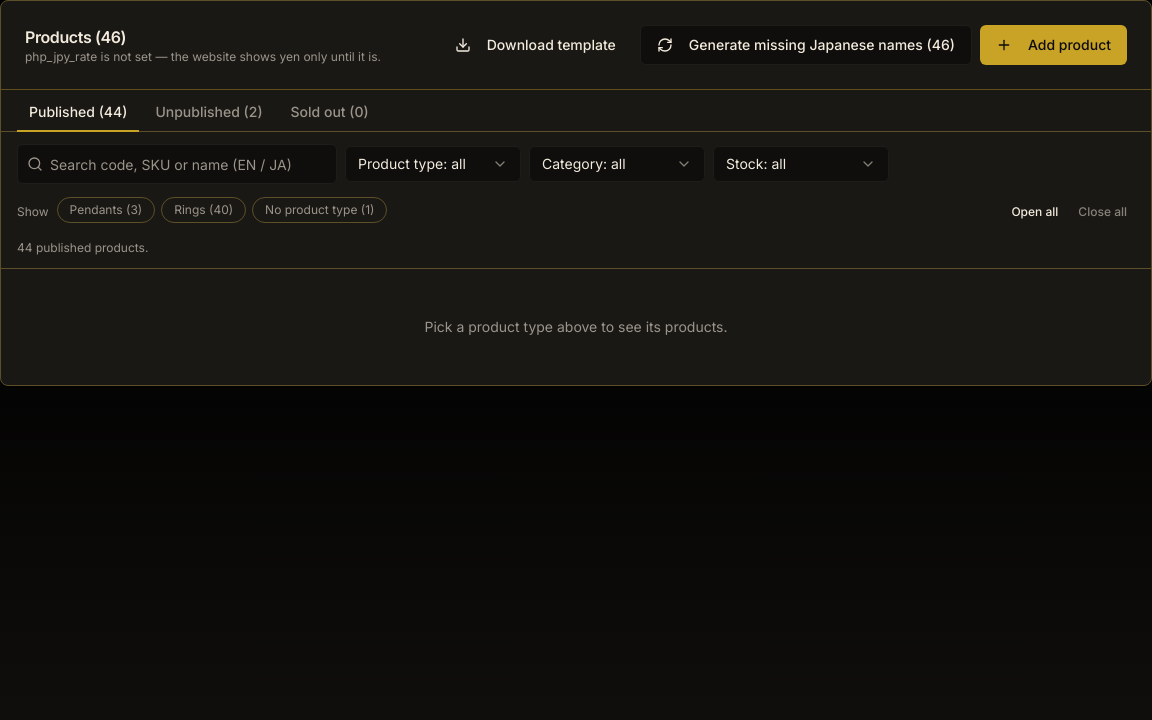
Catalog: product types picked by chip, with paging › Open all shows every type with products under headings; Close all hides the list
Step 1. Click the button "Open all" → point(1035, 212), box [1003,196,1066,228]
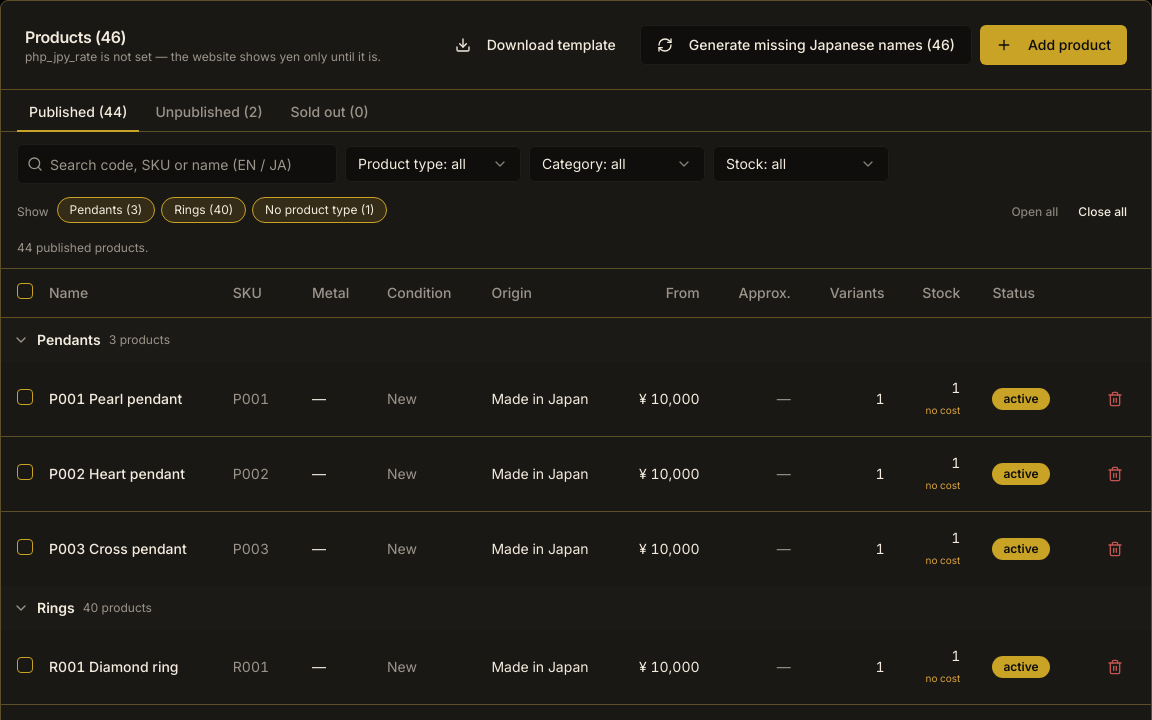
Result: the number of checkboxes named "Select P001" is 29
Result: the button "Open all" is disabled at [1003,196,1066,228]
Step 2. Click the button "Close all" → point(1103, 212), box [1070,196,1135,228]
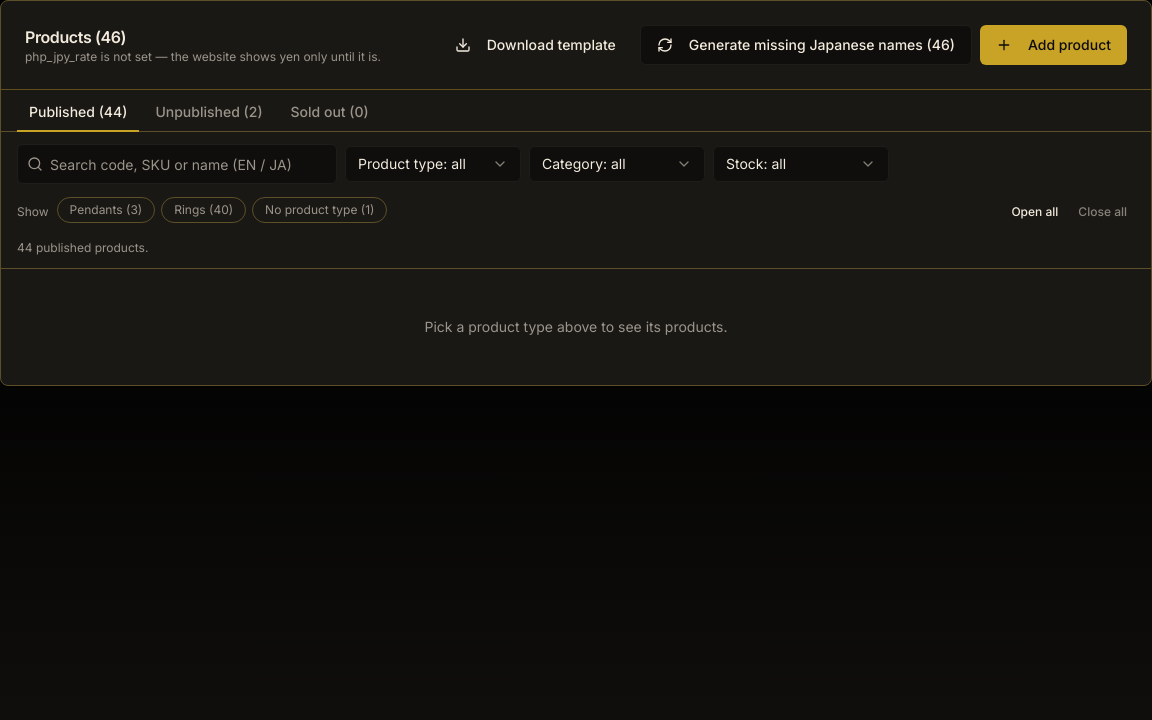
Result: the button "Close all" is disabled at [1070,196,1135,228]
